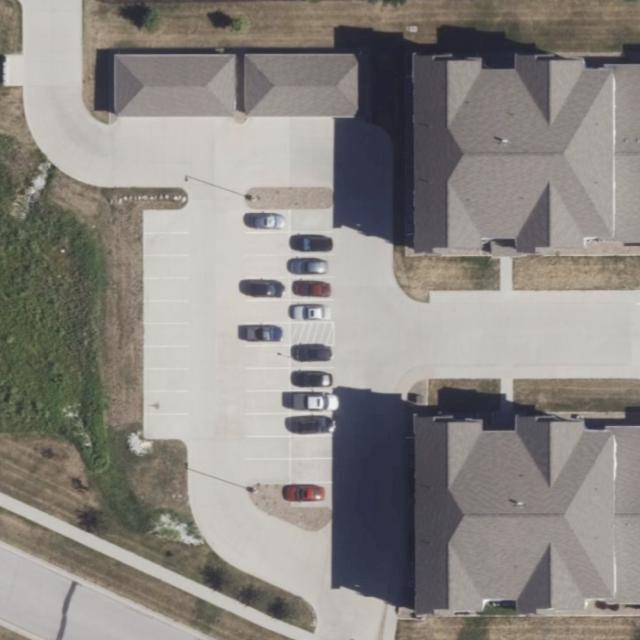Empty: (245, 459, 291, 485), (144, 368, 192, 392), (243, 413, 290, 437), (144, 278, 190, 302), (145, 300, 191, 324), (244, 344, 290, 368), (244, 300, 290, 324), (242, 255, 290, 278), (144, 392, 193, 414), (143, 210, 189, 233), (143, 232, 189, 255), (144, 254, 188, 278), (144, 324, 192, 346), (144, 346, 192, 368), (290, 458, 334, 482), (246, 368, 290, 392), (245, 436, 291, 458), (246, 391, 290, 414), (290, 436, 334, 458), (244, 233, 288, 255), (290, 210, 334, 232)
Parked: (242, 208, 290, 232), (288, 276, 336, 300), (242, 322, 290, 346), (290, 368, 336, 392), (241, 278, 291, 300), (290, 391, 336, 414), (289, 300, 337, 322), (290, 232, 334, 255), (289, 255, 335, 277), (291, 413, 337, 435), (291, 484, 333, 508), (290, 345, 334, 367)
